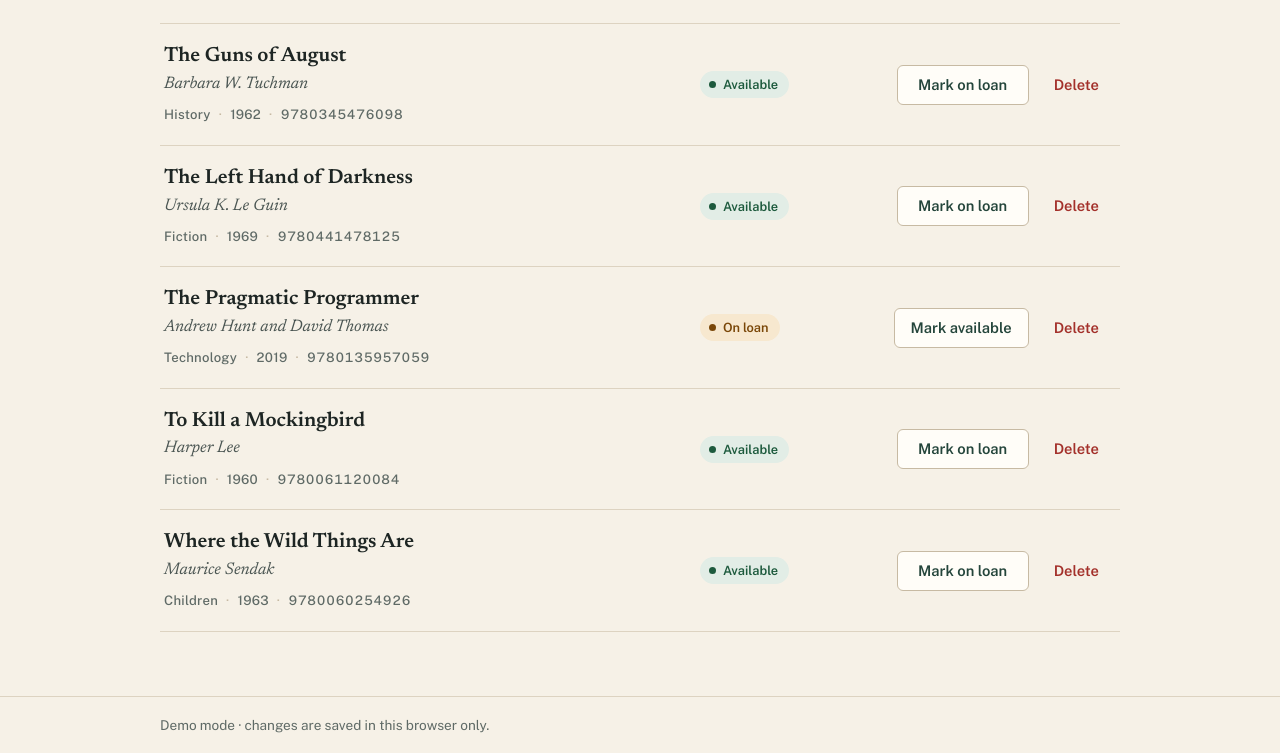
Test: CatalogPage › FE-AC9: deletes after an inline confirm; cancel keeps the book
The width and height of the screenshot is (1280, 753).
(page scrolled)
Step 1. Click the button with aria-label "Delete Where the Wild Things Are" → (1076, 571), box [1037,551,1116,591]
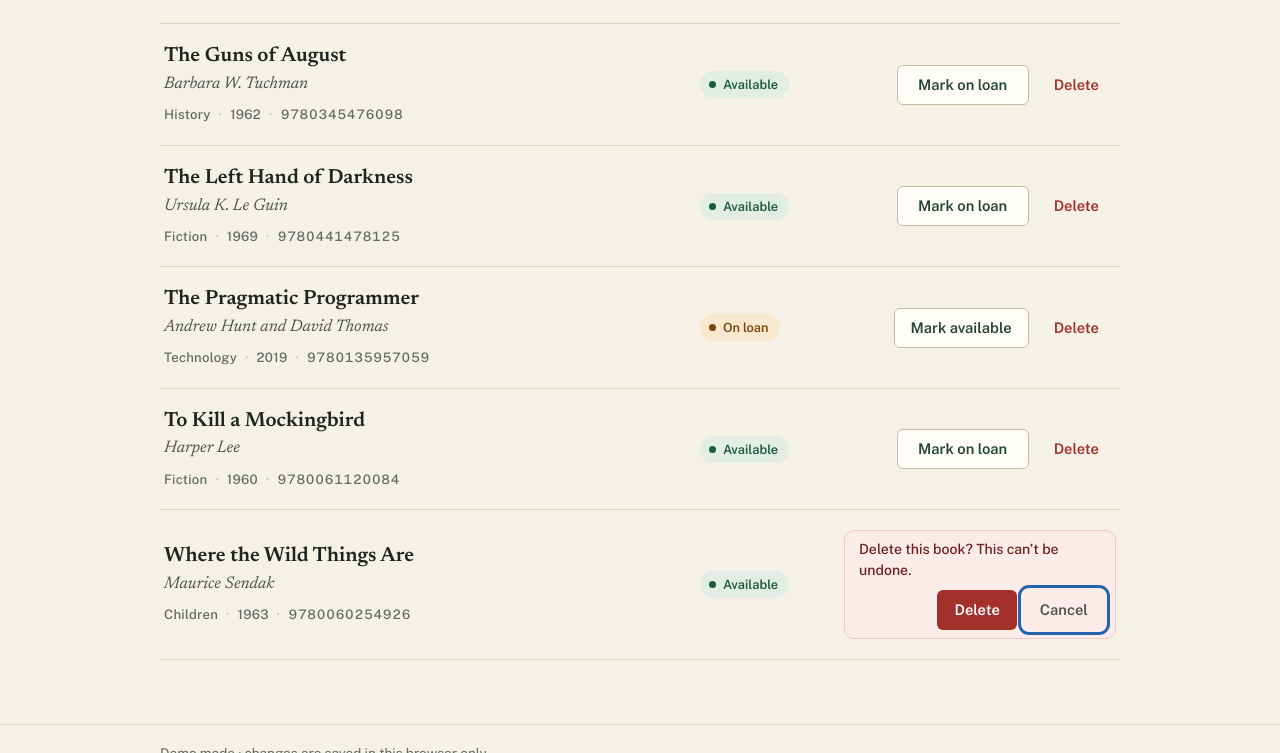
Step 2. Click the button "Cancel" → (1064, 610), box [1023,590,1105,630]
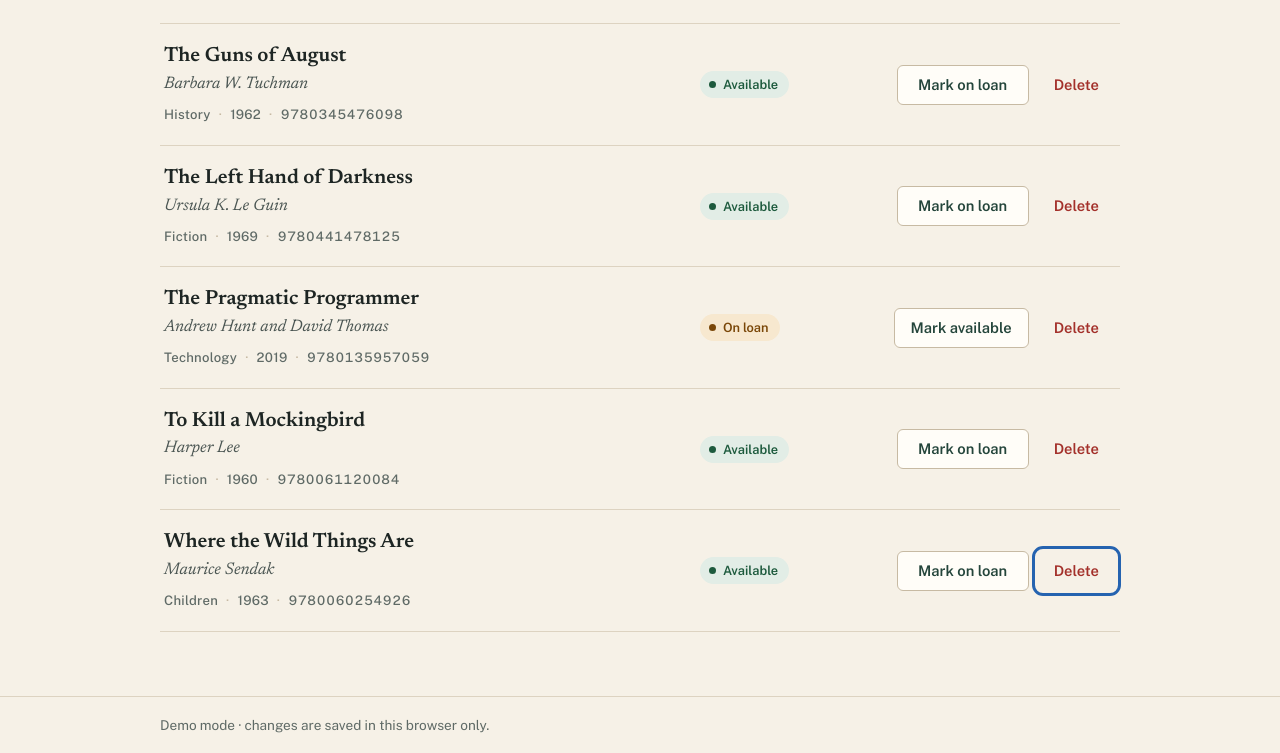
Now the button with test id "confirm-delete" is gone
Step 3. Click the button with test id "delete-book" in the row of "Maurice Sendak" → (1076, 571), box [1037,551,1116,591]
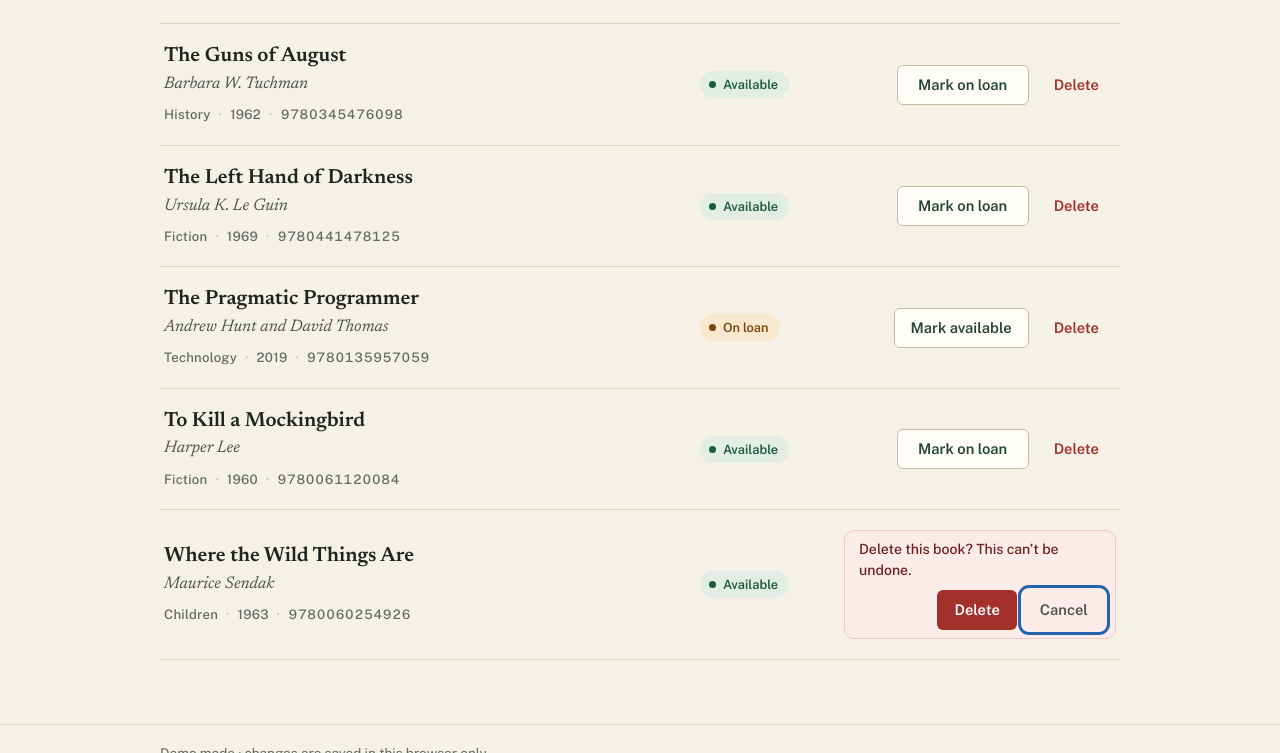
Step 4. Press Escape
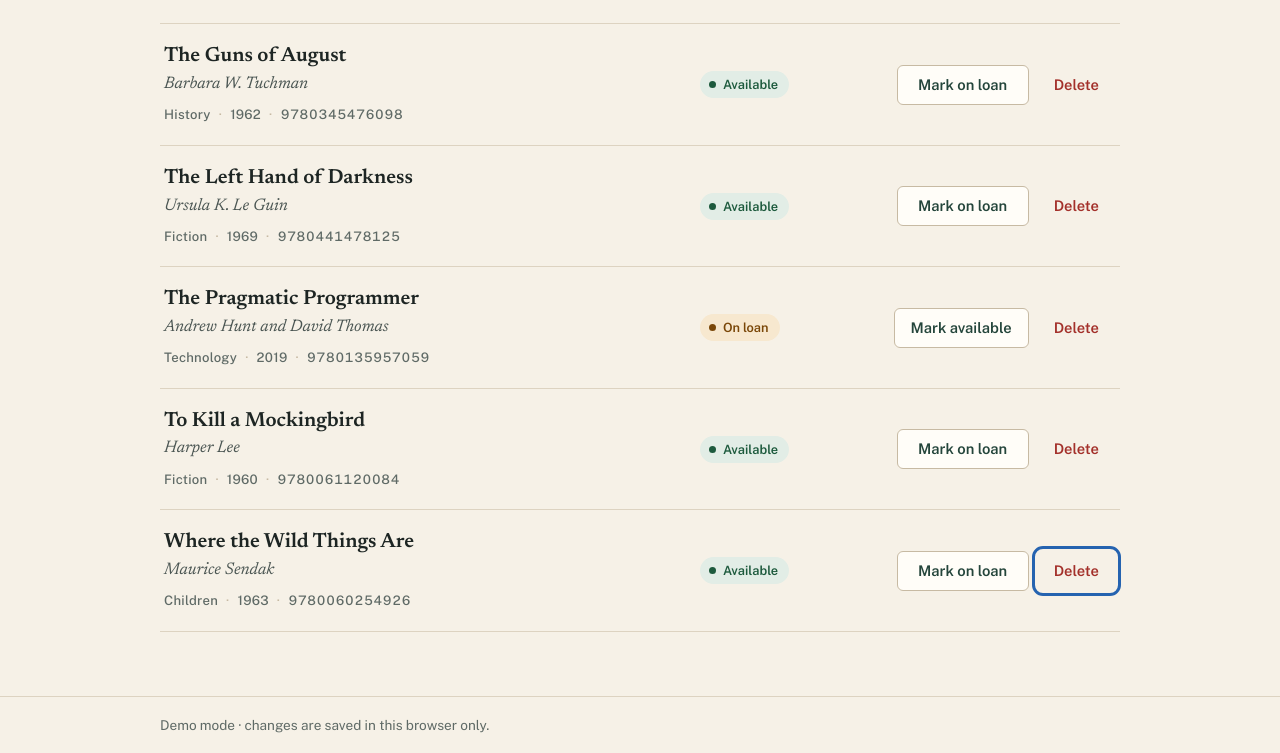
Now the button with test id "confirm-delete" is gone
Step 5. Click the button with test id "delete-book" in the row of "Maurice Sendak" → (1076, 571), box [1037,551,1116,591]
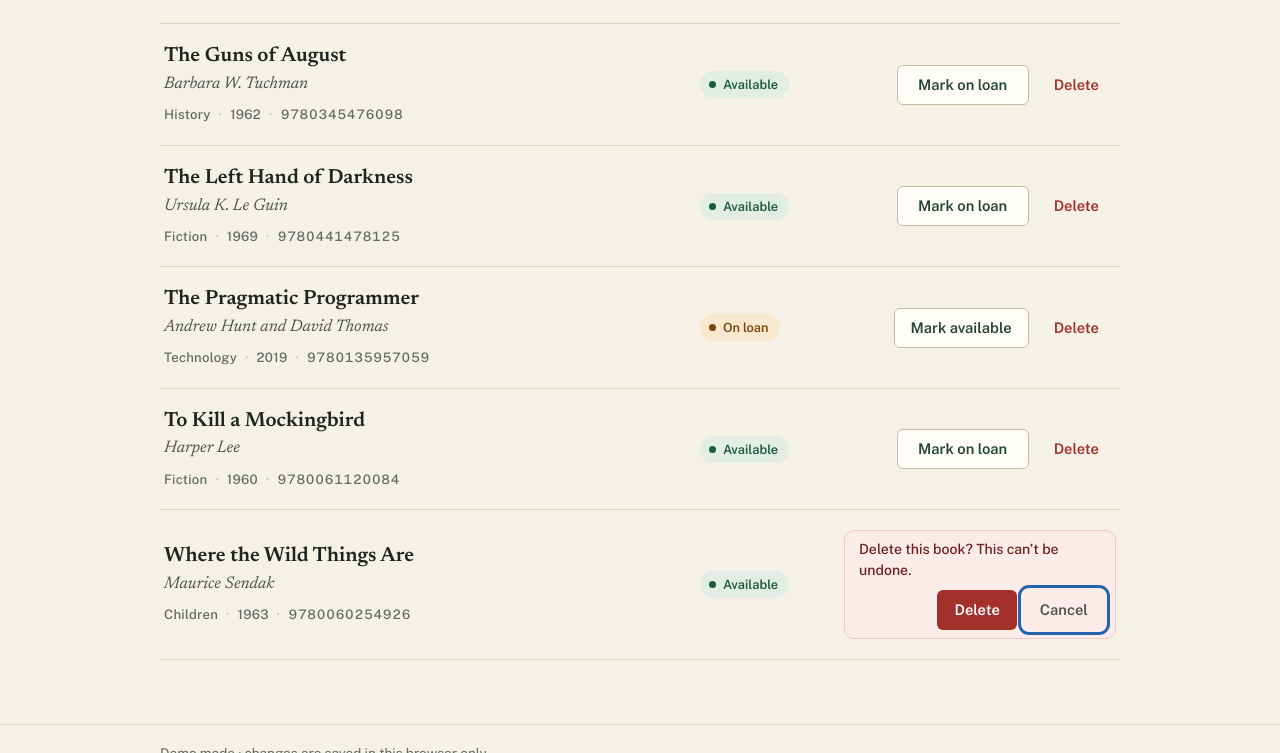
Step 6. Click the button with test id "confirm-delete" → (977, 610), box [938,590,1017,630]
(page scrolled)
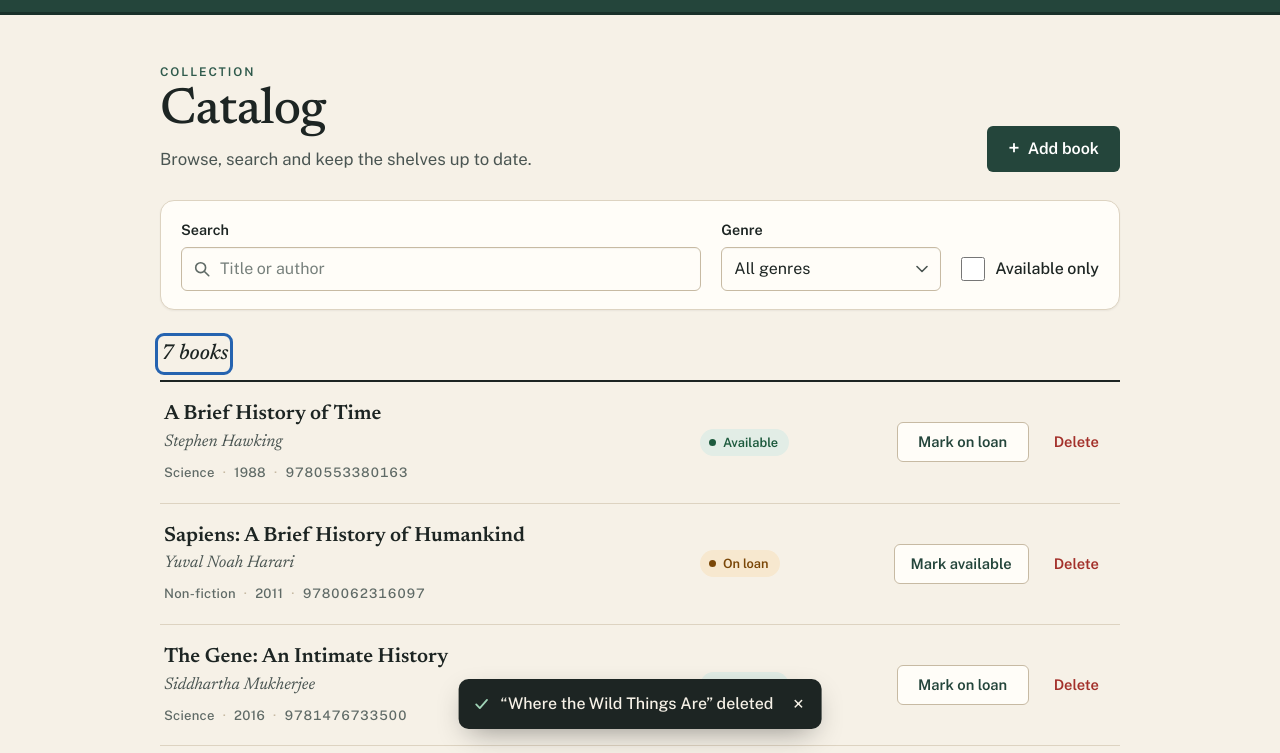
Now the number of list items with test id "book-row" is 7
Now the element with test id "toast" shows "“Where the Wild Things Are” deleted", box [501,694,773,713]
